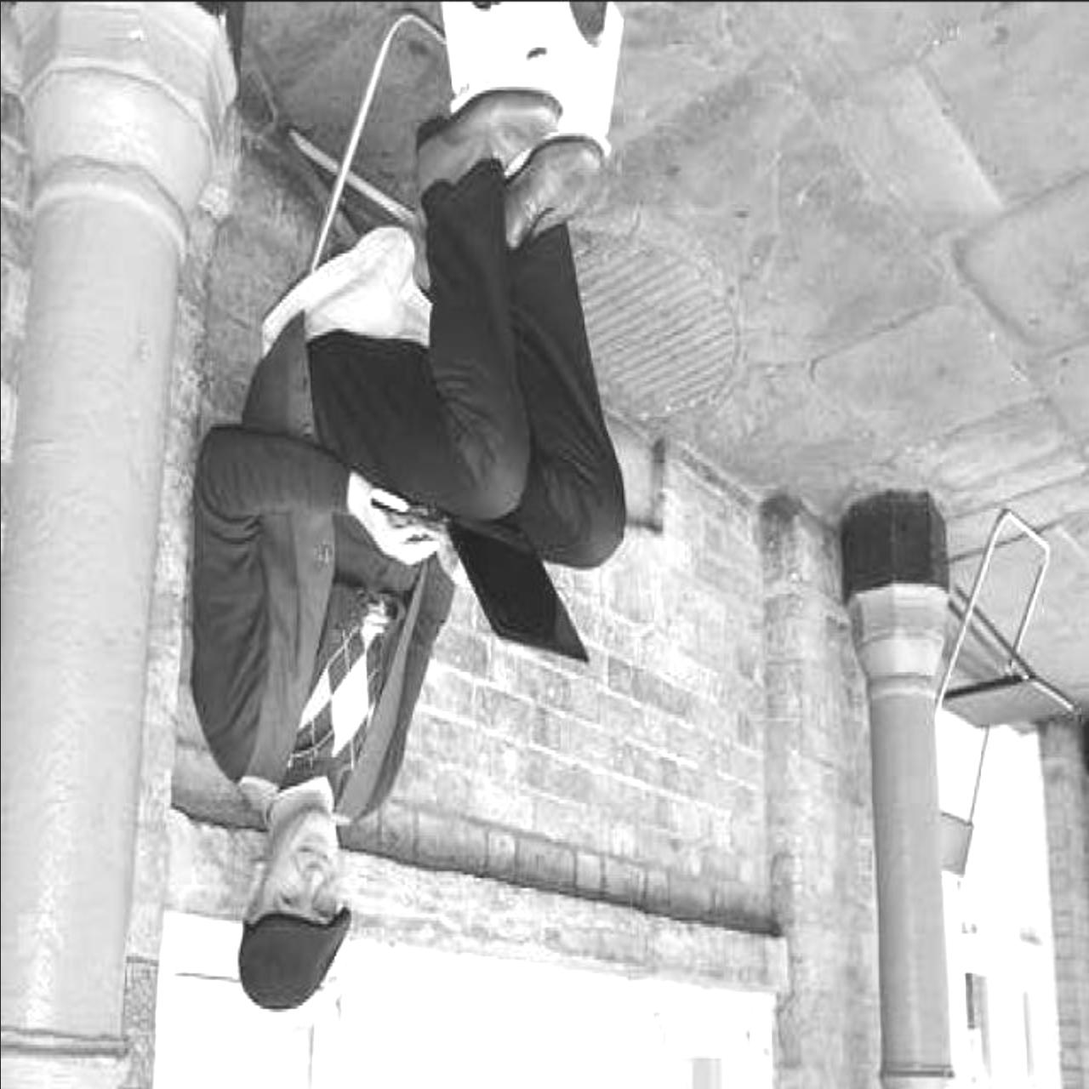laptop: (373, 498, 587, 666)
